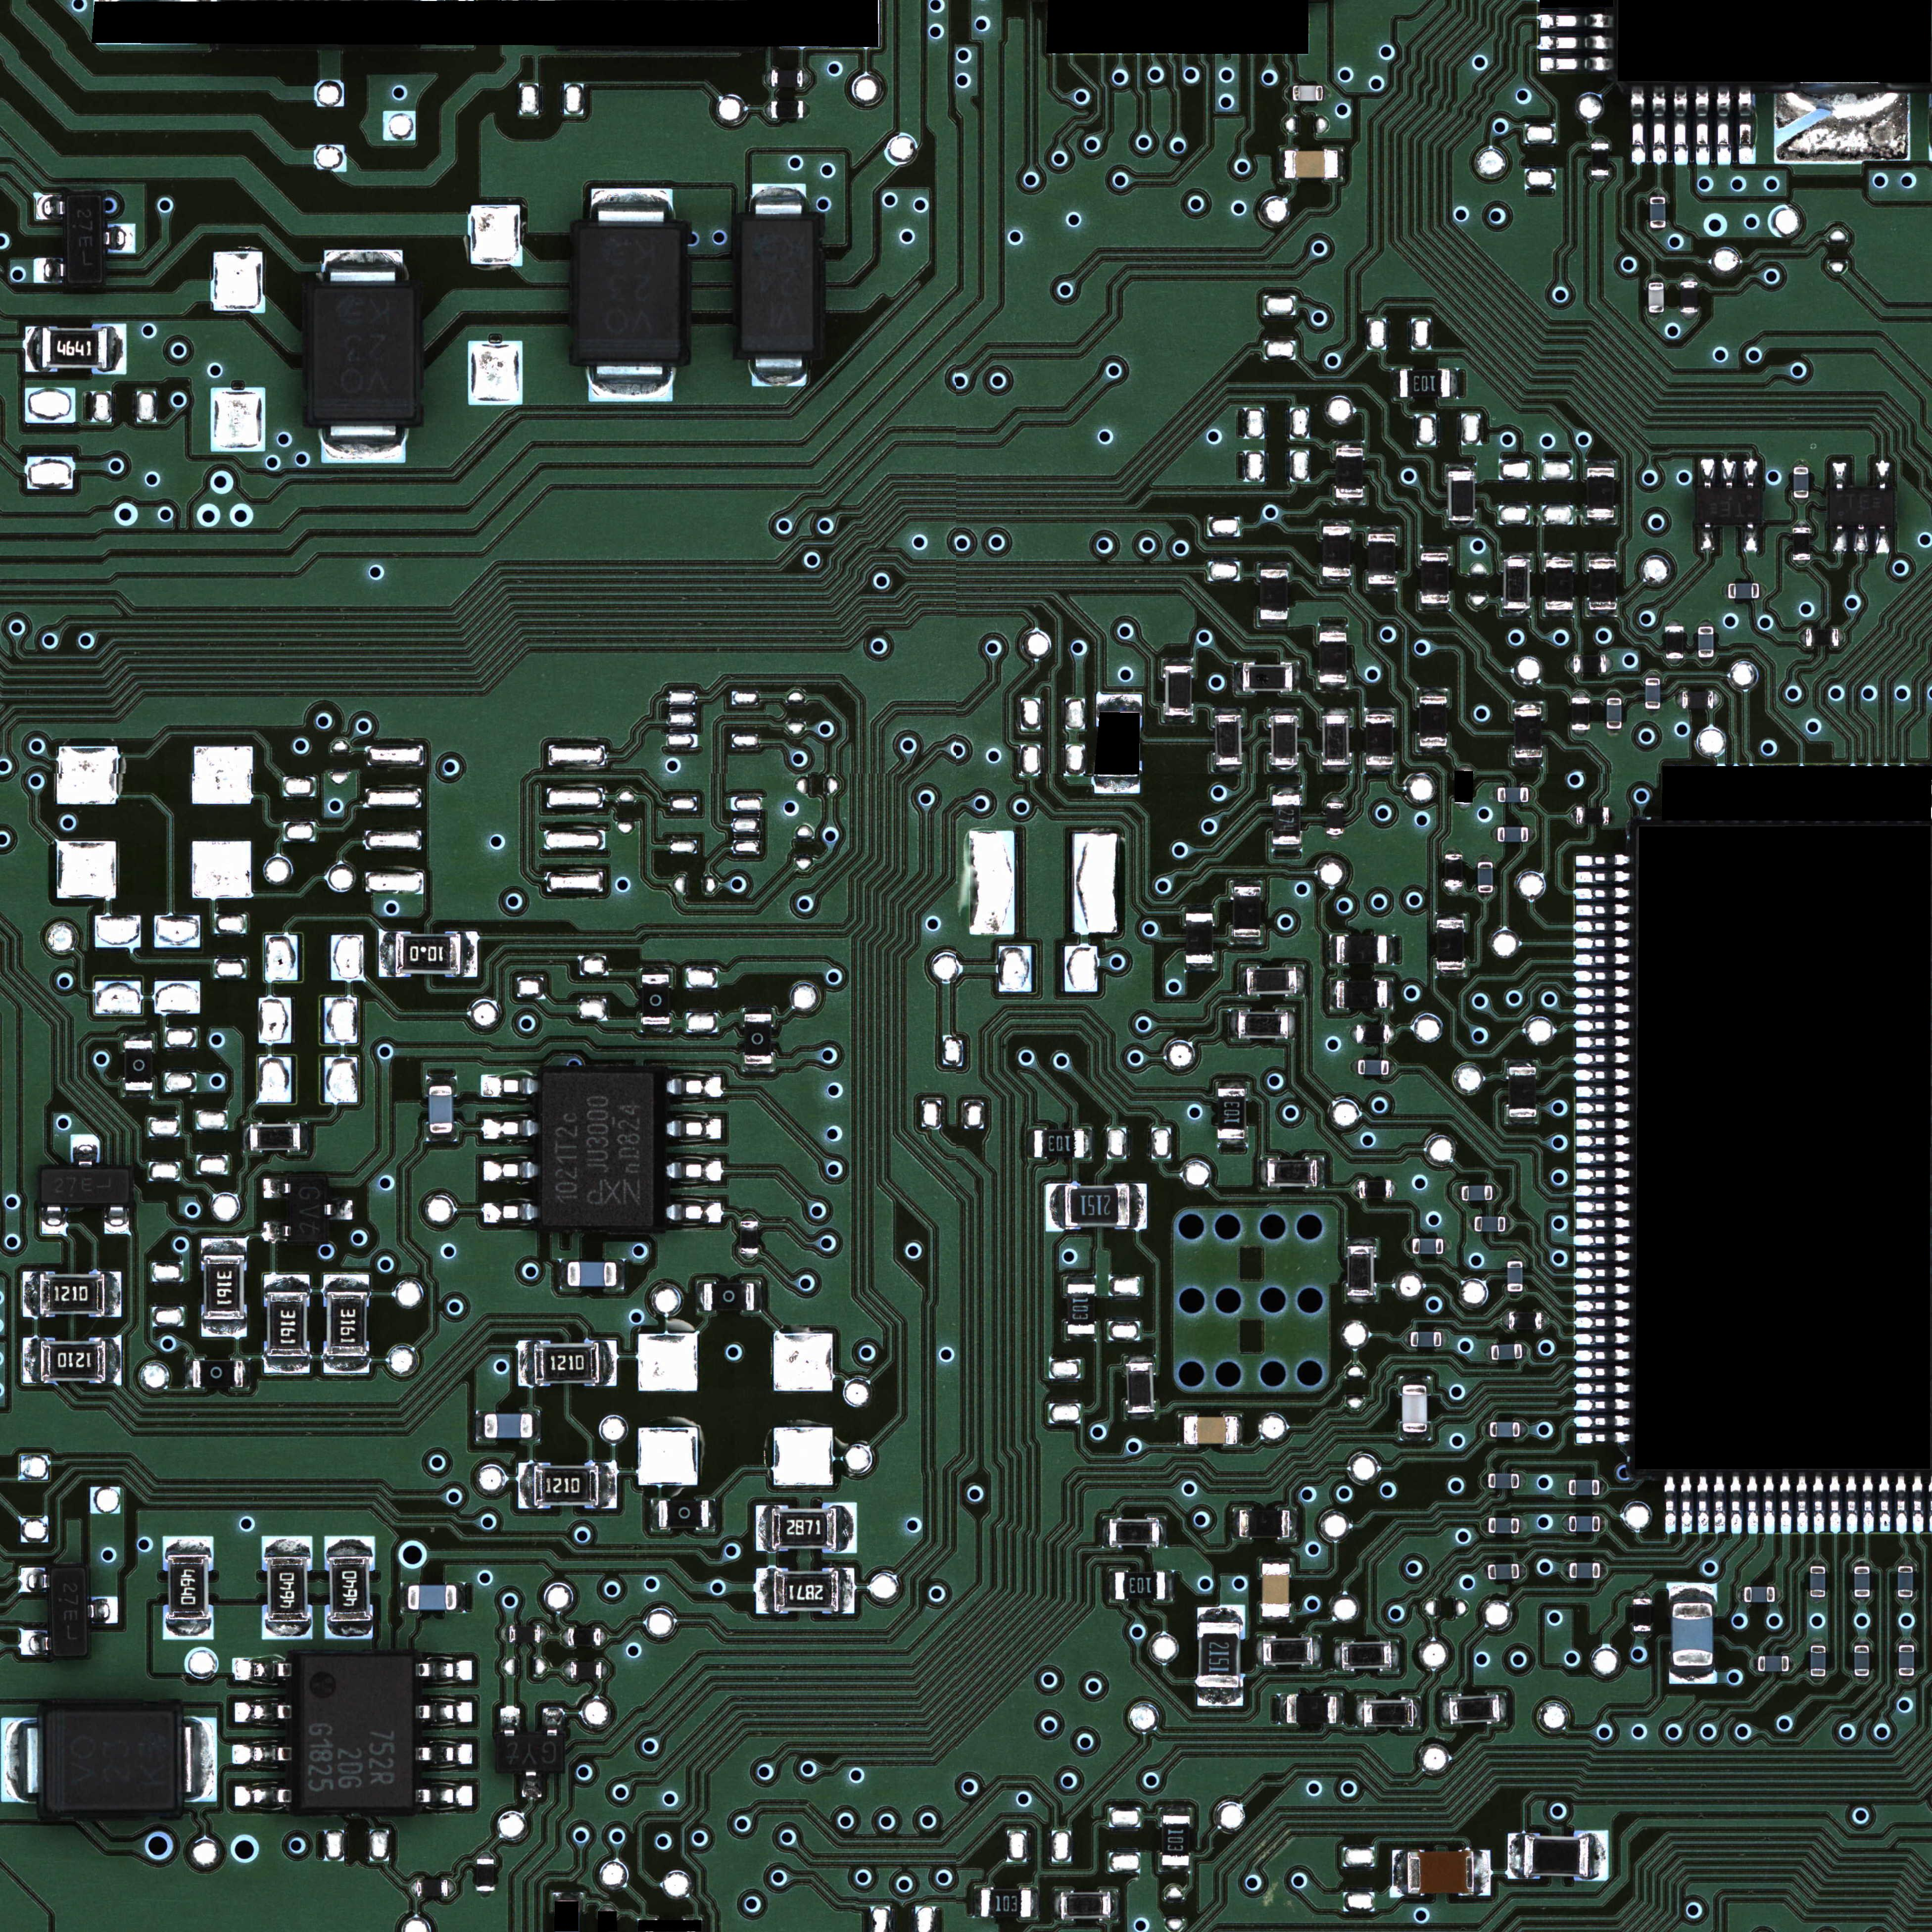Package: (541, 1072, 655, 1228), (303, 1656, 414, 1808), (311, 287, 416, 419), (579, 228, 681, 361), (46, 1713, 177, 1812), (740, 219, 816, 352), (65, 193, 104, 287), (39, 1166, 131, 1205), (50, 1566, 87, 1656), (1198, 1622, 1242, 1688), (166, 1555, 211, 1619), (265, 1557, 310, 1621), (1408, 1851, 1474, 1893), (773, 1569, 839, 1612), (329, 1555, 372, 1621), (396, 932, 460, 975), (1065, 1185, 1129, 1228), (326, 1292, 366, 1357), (267, 1292, 308, 1357), (41, 1341, 106, 1382), (1672, 1601, 1713, 1665), (534, 1465, 598, 1506), (203, 1256, 244, 1320), (41, 1274, 104, 1315), (534, 1343, 598, 1384), (1525, 1836, 1587, 1877), (773, 1507, 835, 1548), (42, 329, 106, 368), (495, 1736, 564, 1771), (1828, 490, 1895, 525), (1697, 488, 1762, 524), (290, 1178, 324, 1242), (1284, 150, 1338, 179), (1261, 1564, 1290, 1617), (1336, 980, 1387, 1008), (1217, 1088, 1246, 1139), (1184, 1417, 1237, 1444), (658, 1500, 708, 1529), (1067, 1284, 1095, 1334), (704, 1283, 754, 1311), (1260, 570, 1288, 619), (1185, 913, 1214, 962), (1449, 1695, 1499, 1723), (1545, 561, 1573, 610), (1336, 448, 1364, 497), (1240, 1509, 1290, 1537), (1421, 554, 1449, 603), (1286, 1695, 1336, 1723), (1322, 527, 1350, 577), (1368, 534, 1396, 584), (1419, 695, 1445, 747), (1320, 632, 1346, 683), (1587, 467, 1614, 518), (1233, 886, 1260, 938), (1116, 1571, 1164, 1599), (642, 975, 669, 1024), (982, 1890, 1031, 1916), (1338, 936, 1387, 962), (1509, 1067, 1536, 1116), (1399, 370, 1449, 396), (126, 1040, 152, 1090), (1162, 1815, 1189, 1865), (193, 1361, 242, 1387), (1437, 920, 1463, 970), (1341, 1642, 1391, 1668), (1127, 1362, 1154, 1412), (745, 1014, 771, 1063), (1274, 794, 1300, 844), (1267, 1159, 1316, 1185), (1514, 708, 1541, 757), (1368, 715, 1392, 766), (1035, 1131, 1083, 1157), (1244, 663, 1292, 690), (1589, 561, 1615, 609), (1263, 1638, 1313, 1663), (251, 1125, 301, 1150), (1247, 968, 1297, 993), (1449, 471, 1474, 520), (1238, 1012, 1288, 1037), (1166, 665, 1191, 715), (1348, 1246, 1373, 1295), (1272, 715, 1297, 764), (1109, 1520, 1159, 1545), (1364, 1700, 1414, 1725), (1062, 1893, 1111, 1918), (1215, 715, 1240, 764), (568, 1261, 616, 1286), (485, 1414, 533, 1438), (409, 1585, 456, 1610), (1403, 1384, 1428, 1431), (1506, 559, 1529, 609), (1325, 715, 1346, 766), (430, 1086, 453, 1132), (740, 1221, 759, 1254), (1665, 626, 1684, 660), (1355, 1024, 1389, 1044), (476, 1859, 495, 1891), (1359, 1180, 1392, 1198), (1445, 855, 1463, 888), (1573, 655, 1606, 672), (1571, 697, 1589, 729), (1591, 143, 1608, 175), (1633, 1599, 1651, 1631), (570, 1661, 602, 1679), (1806, 628, 1838, 646), (1509, 1311, 1541, 1329), (568, 1628, 600, 1645), (1792, 527, 1810, 559), (416, 1879, 448, 1897), (771, 101, 803, 119), (1681, 281, 1698, 313), (1576, 807, 1608, 824), (1647, 283, 1665, 313), (1327, 803, 1345, 833), (1410, 1330, 1442, 1346), (1461, 1185, 1493, 1201), (1854, 1566, 1870, 1598), (1810, 1566, 1826, 1598), (1474, 1215, 1506, 1231), (1488, 1564, 1520, 1580), (1477, 862, 1493, 893), (1759, 1656, 1789, 1672), (1683, 692, 1713, 708), (1293, 85, 1323, 101), (510, 1626, 540, 1642), (1507, 1261, 1523, 1292), (771, 71, 801, 87), (1569, 1562, 1599, 1578), (1491, 1345, 1522, 1361), (1569, 1516, 1599, 1532), (1898, 1645, 1914, 1675), (1810, 1645, 1826, 1675), (1490, 1518, 1520, 1534), (1744, 1587, 1775, 1603), (1497, 828, 1529, 842), (1794, 467, 1808, 499), (1898, 1566, 1913, 1598), (1606, 697, 1621, 729), (1645, 678, 1660, 709), (1651, 196, 1665, 228), (1488, 1474, 1520, 1488), (1414, 1238, 1442, 1254), (1499, 787, 1529, 801), (1490, 1422, 1520, 1437), (1854, 1645, 1868, 1675), (1359, 1060, 1389, 1074), (1729, 584, 1759, 598), (1569, 1481, 1599, 1495), (1698, 626, 1713, 656)
Solder: (1773, 92, 1911, 165), (0, 1718, 44, 1803), (322, 421, 405, 464), (177, 1718, 218, 1801), (591, 188, 672, 228), (589, 363, 672, 402), (324, 249, 403, 287), (750, 352, 807, 387), (752, 184, 807, 219), (1737, 87, 1755, 165), (1716, 87, 1734, 165), (1693, 87, 1711, 165), (1672, 87, 1690, 165), (1651, 87, 1668, 165), (232, 1743, 290, 1766), (232, 1658, 290, 1681), (234, 1783, 290, 1806), (234, 1700, 290, 1723), (665, 1200, 722, 1223), (481, 1074, 538, 1097), (418, 1700, 472, 1723), (667, 1159, 722, 1182), (418, 1743, 472, 1766), (667, 1116, 722, 1139), (481, 1116, 536, 1139), (483, 1159, 536, 1182), (416, 1785, 472, 1806), (416, 1660, 472, 1681), (667, 1076, 722, 1097), (483, 1201, 538, 1223), (1541, 57, 1614, 73), (1539, 35, 1612, 51), (1631, 87, 1645, 165), (262, 1536, 313, 1557), (69, 1132, 101, 1166), (1541, 14, 1614, 28), (837, 1502, 856, 1553), (324, 1536, 375, 1555), (1589, 1829, 1608, 1881), (262, 1621, 313, 1640), (163, 1621, 214, 1640), (1668, 1665, 1718, 1684), (324, 1621, 373, 1640), (104, 223, 136, 253), (1046, 1184, 1065, 1231), (598, 1461, 617, 1509), (163, 1536, 214, 1553), (87, 1596, 119, 1624), (108, 324, 126, 373), (34, 257, 65, 283), (1196, 1688, 1244, 1706), (1198, 1605, 1246, 1622), (1093, 777, 1141, 794), (600, 1339, 617, 1385), (1670, 1583, 1716, 1601), (264, 1274, 310, 1292), (324, 1274, 370, 1292), (755, 1568, 773, 1614), (1474, 1849, 1491, 1895), (755, 1506, 773, 1552), (19, 1629, 50, 1656), (202, 1320, 246, 1338), (1097, 694, 1141, 711), (518, 1461, 534, 1509), (1392, 1849, 1408, 1897), (35, 195, 65, 219), (19, 1568, 50, 1592), (25, 326, 41, 372), (202, 1238, 248, 1254), (23, 1338, 39, 1384), (1131, 1184, 1146, 1230), (379, 931, 395, 977), (23, 1272, 39, 1318), (324, 1357, 370, 1373), (518, 1341, 534, 1387), (462, 931, 478, 977), (839, 1568, 855, 1614), (1507, 1833, 1523, 1879), (1730, 1476, 1743, 1534), (1780, 1476, 1792, 1534), (106, 1272, 122, 1316), (41, 1207, 65, 1235), (1681, 1474, 1693, 1530), (1697, 1476, 1709, 1532), (1796, 1476, 1808, 1532), (1845, 1476, 1858, 1532), (1879, 1474, 1891, 1530), (1895, 1476, 1907, 1532), (1575, 1184, 1631, 1196), (1575, 1201, 1631, 1214), (1575, 1251, 1631, 1263), (1575, 1267, 1631, 1279), (1576, 985, 1633, 998), (1576, 970, 1633, 982), (1576, 1431, 1631, 1444), (1576, 1415, 1631, 1428), (1576, 1382, 1631, 1394), (1576, 1399, 1631, 1412), (1576, 1366, 1631, 1378), (1576, 1316, 1631, 1329), (1576, 1217, 1631, 1230), (1576, 1300, 1631, 1313), (1576, 1069, 1631, 1081), (1576, 1085, 1631, 1097), (1576, 1118, 1631, 1131), (1576, 1168, 1631, 1180), (1576, 920, 1631, 932), (1576, 904, 1631, 916), (1576, 886, 1631, 899), (1576, 1019, 1631, 1031), (1576, 870, 1631, 883), (1576, 855, 1631, 867), (106, 1336, 120, 1384), (104, 1207, 129, 1233), (264, 1359, 310, 1373), (1748, 1474, 1759, 1532), (1764, 1476, 1775, 1534), (1665, 1476, 1675, 1532), (1714, 1476, 1725, 1532), (1829, 1476, 1840, 1532), (1863, 1476, 1874, 1532), (1913, 1476, 1923, 1532), (1575, 1053, 1631, 1063), (1576, 1037, 1633, 1047), (501, 1706, 520, 1736), (1813, 1476, 1824, 1530), (1576, 1350, 1631, 1361), (1576, 1334, 1631, 1345), (1576, 1235, 1631, 1246), (1576, 1284, 1631, 1295), (1576, 1102, 1631, 1113), (1576, 1136, 1631, 1146), (1576, 1152, 1631, 1162), (1576, 1003, 1631, 1014), (1576, 954, 1631, 964), (1576, 938, 1631, 948), (543, 1707, 563, 1736), (324, 1200, 352, 1219), (264, 1178, 290, 1198), (522, 1771, 541, 1798), (262, 1223, 290, 1240), (1700, 524, 1716, 552), (1743, 524, 1759, 552), (1698, 458, 1714, 487), (1875, 460, 1890, 490), (1721, 458, 1736, 488), (1852, 525, 1868, 552), (1831, 525, 1847, 552), (1833, 462, 1847, 490), (1743, 460, 1757, 488), (1875, 525, 1888, 554), (1513, 757, 1545, 768), (1228, 1008, 1238, 1039), (550, 1891, 584, 1900), (1316, 1157, 1325, 1189), (1545, 552, 1576, 561), (1445, 520, 1477, 529), (1159, 1806, 1191, 1815), (649, 1499, 658, 1530), (741, 1063, 773, 1072), (425, 1132, 456, 1141), (400, 1582, 409, 1614), (1499, 1693, 1507, 1723), (1440, 1695, 1449, 1725), (1336, 1695, 1345, 1725), (1391, 1640, 1399, 1670), (1399, 1375, 1430, 1384), (1399, 1431, 1430, 1440), (1346, 1237, 1376, 1246), (1346, 1295, 1376, 1304), (1083, 1129, 1092, 1159), (1026, 1129, 1035, 1159), (1368, 525, 1398, 534), (1292, 662, 1300, 692), (1235, 662, 1244, 692), (1507, 1116, 1537, 1125), (1159, 1865, 1189, 1874), (973, 1888, 982, 1918), (616, 1260, 625, 1290), (559, 1260, 568, 1290), (640, 1024, 671, 1033), (640, 966, 671, 975), (242, 1123, 251, 1154), (456, 1582, 465, 1612), (1125, 1412, 1154, 1421), (1067, 1276, 1095, 1284), (1258, 1159, 1267, 1187), (1288, 1010, 1297, 1039), (1336, 497, 1364, 506), (1214, 764, 1242, 773), (1164, 715, 1192, 724), (1164, 656, 1192, 665), (1053, 1891, 1062, 1920), (533, 1412, 541, 1440), (476, 1412, 485, 1440), (695, 1283, 704, 1311), (754, 1283, 763, 1311), (1290, 1507, 1297, 1541), (1238, 968, 1247, 994), (1256, 1635, 1263, 1667), (1231, 1507, 1238, 1539), (1164, 1569, 1171, 1601), (1230, 879, 1261, 886), (1585, 552, 1617, 559), (1583, 518, 1615, 525), (1445, 464, 1477, 471), (1414, 1698, 1421, 1729), (1357, 1697, 1364, 1727), (1279, 1693, 1286, 1723), (1313, 1635, 1320, 1665), (1334, 1640, 1341, 1670), (1261, 1557, 1292, 1564), (1102, 1518, 1109, 1548), (1159, 1516, 1166, 1546), (1217, 1139, 1247, 1146), (1231, 938, 1261, 945), (1272, 844, 1302, 851), (1330, 934, 1338, 964), (1513, 701, 1543, 708), (1585, 460, 1615, 467), (1421, 547, 1451, 554), (1366, 584, 1396, 591), (1322, 577, 1352, 584), (1322, 518, 1352, 525), (1336, 441, 1366, 448), (1258, 563, 1288, 570), (1318, 625, 1348, 632), (1318, 683, 1348, 690), (1214, 708, 1244, 715), (1507, 1060, 1537, 1067), (1031, 1888, 1039, 1918), (708, 1499, 715, 1529), (743, 1007, 773, 1014), (301, 1122, 308, 1152), (186, 1359, 193, 1389), (1108, 1571, 1115, 1599), (1127, 1355, 1155, 1362), (1067, 1334, 1095, 1341), (1217, 1081, 1246, 1088), (1185, 964, 1214, 971), (1185, 906, 1214, 913), (1272, 787, 1300, 794), (1387, 980, 1394, 1008), (1329, 980, 1336, 1008), (1387, 936, 1394, 964), (1437, 970, 1465, 977), (1437, 913, 1465, 920), (1502, 609, 1530, 616), (1421, 603, 1449, 610), (1504, 552, 1532, 559), (1260, 619, 1288, 626), (1270, 708, 1299, 715), (1270, 764, 1299, 771), (1366, 766, 1394, 773), (1366, 708, 1394, 715), (1419, 747, 1447, 754), (1111, 1890, 1118, 1918), (428, 1077, 456, 1085), (122, 1090, 150, 1097), (124, 1033, 152, 1040), (242, 1361, 249, 1389), (1338, 150, 1345, 179), (1277, 150, 1284, 179), (1297, 968, 1304, 994), (1323, 708, 1350, 715), (1260, 1617, 1290, 1622), (1237, 1415, 1242, 1445), (1587, 610, 1617, 616), (1633, 1591, 1651, 1599), (1560, 1514, 1569, 1532), (448, 1879, 456, 1897), (1178, 1415, 1184, 1444), (1545, 610, 1573, 616), (1698, 656, 1714, 665), (1481, 1518, 1490, 1534), (1323, 766, 1350, 771), (1419, 690, 1445, 695), (1713, 692, 1721, 708), (501, 1626, 510, 1642), (1591, 175, 1610, 182), (1325, 796, 1345, 803), (740, 1214, 759, 1221), (476, 1852, 495, 1859), (476, 1891, 495, 1898), (803, 71, 810, 88), (803, 101, 810, 119), (1591, 136, 1608, 143), (1649, 189, 1667, 196), (1681, 313, 1698, 320), (1799, 628, 1806, 646), (1759, 584, 1767, 598), (1737, 1585, 1744, 1603), (1775, 1585, 1782, 1603), (1633, 1631, 1651, 1638), (1599, 1562, 1606, 1580), (1520, 1422, 1529, 1437), (1502, 1311, 1509, 1329), (1350, 1060, 1359, 1074), (1327, 833, 1345, 840), (561, 1628, 568, 1645), (598, 1904, 616, 1911), (1569, 807, 1576, 824), (764, 71, 771, 87), (1794, 559, 1810, 566), (1794, 520, 1810, 527), (1838, 630, 1845, 646), (1698, 619, 1714, 626), (1667, 619, 1683, 626), (1789, 1656, 1796, 1672), (1752, 1656, 1759, 1672), (1810, 1675, 1826, 1683), (1810, 1638, 1826, 1645), (1854, 1675, 1870, 1683), (1854, 1638, 1870, 1645), (1898, 1675, 1914, 1683), (1898, 1559, 1914, 1566), (1562, 1562, 1569, 1578), (1562, 1479, 1569, 1495), (1520, 1564, 1527, 1580), (1520, 1518, 1527, 1534), (1541, 1313, 1548, 1329), (1507, 1292, 1523, 1299), (1507, 1254, 1523, 1261), (1493, 1185, 1500, 1201), (1407, 1238, 1414, 1254), (1389, 1026, 1396, 1042), (1389, 1060, 1396, 1076), (1477, 855, 1493, 862), (1606, 656, 1614, 672), (1456, 803, 1472, 810), (1675, 692, 1683, 708), (541, 1626, 548, 1642), (600, 1629, 607, 1645), (602, 1661, 609, 1677), (563, 1661, 570, 1677), (1323, 85, 1330, 101), (740, 1254, 759, 1260), (1794, 460, 1808, 467), (1721, 584, 1729, 598), (1645, 671, 1660, 678), (1606, 690, 1621, 697), (1606, 729, 1621, 736), (1810, 1598, 1824, 1605), (1810, 1559, 1824, 1566), (1599, 1481, 1606, 1495), (1520, 1474, 1527, 1488), (1481, 1474, 1488, 1488), (1484, 1345, 1491, 1359), (1442, 1332, 1449, 1346), (1403, 1332, 1410, 1346), (1490, 828, 1497, 842), (1529, 828, 1536, 842), (1529, 787, 1536, 801), (1444, 1238, 1451, 1253), (764, 101, 770, 119), (1681, 276, 1698, 281), (1665, 660, 1683, 665), (1353, 1180, 1359, 1198), (1445, 888, 1463, 893), (1445, 849, 1463, 855), (410, 1879, 416, 1897), (1610, 807, 1615, 824), (1647, 278, 1663, 283), (1573, 731, 1589, 736), (1573, 692, 1589, 697), (1898, 1638, 1914, 1644), (1854, 1598, 1870, 1603), (1854, 1560, 1870, 1566), (1599, 1516, 1605, 1532), (1483, 1564, 1488, 1580), (1456, 1185, 1461, 1201), (1392, 1182, 1398, 1198), (1350, 1026, 1355, 1042), (1477, 893, 1493, 899), (1456, 764, 1472, 770), (1288, 85, 1293, 101), (1794, 499, 1808, 504), (1645, 709, 1660, 715), (1484, 1422, 1490, 1437), (1523, 1345, 1529, 1359), (1506, 1217, 1511, 1231), (1491, 787, 1497, 801), (1568, 656, 1573, 671), (1647, 313, 1663, 317), (1651, 228, 1665, 232), (1898, 1598, 1913, 1601), (1470, 1217, 1474, 1231)
